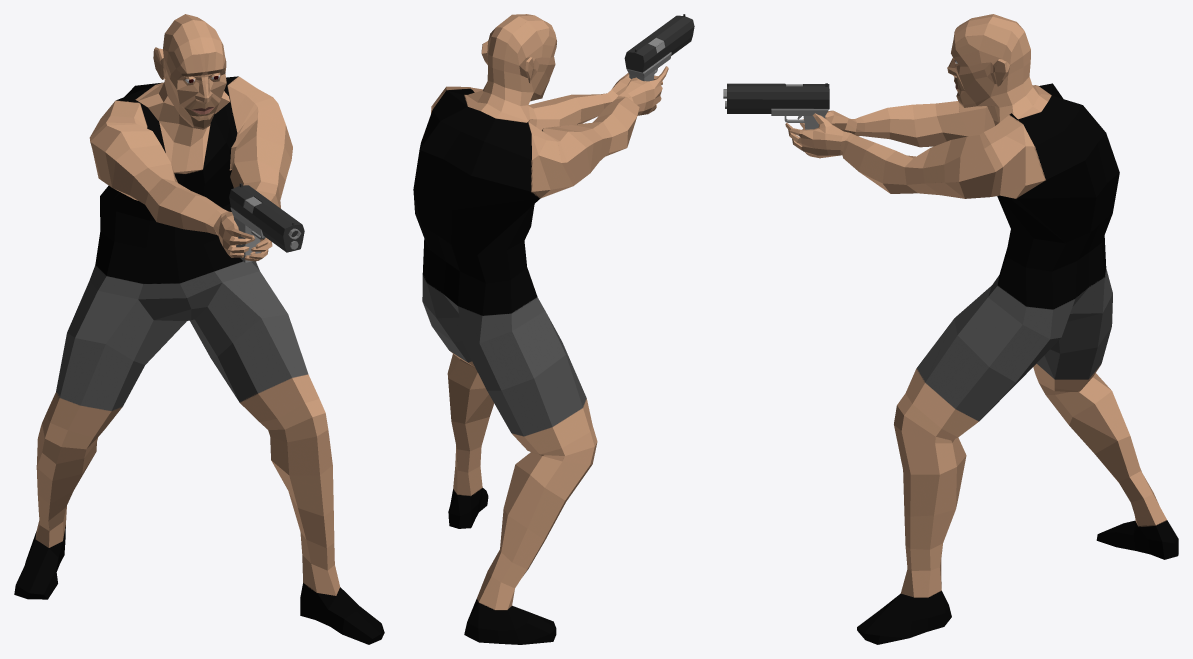
Rendered from PlayerShoot(32).obj.
The picture shows the model from 3 angles, left to right: view 1: azimuth 30°, elevation 25°; view 2: azimuth 150°, elevation 25°; view 3: azimuth 270°, elevation 25°; orthographic projection. The views are drawn at different scales.
Visible parts, largest first — view 1: Plane002, Box003; view 2: Plane002, Box003; view 3: Plane002, Box003.
Part boxes in pixels (<box>): Plane002: <box>14,14,384,644</box>; Box003: <box>229,183,304,262</box>; Plane002: <box>413,14,668,644</box>; Box003: <box>624,14,694,81</box>; Plane002: <box>785,14,1178,644</box>; Box003: <box>723,83,829,151</box>.
Size of the model in its own units: 715 by 1665 by 1209.
